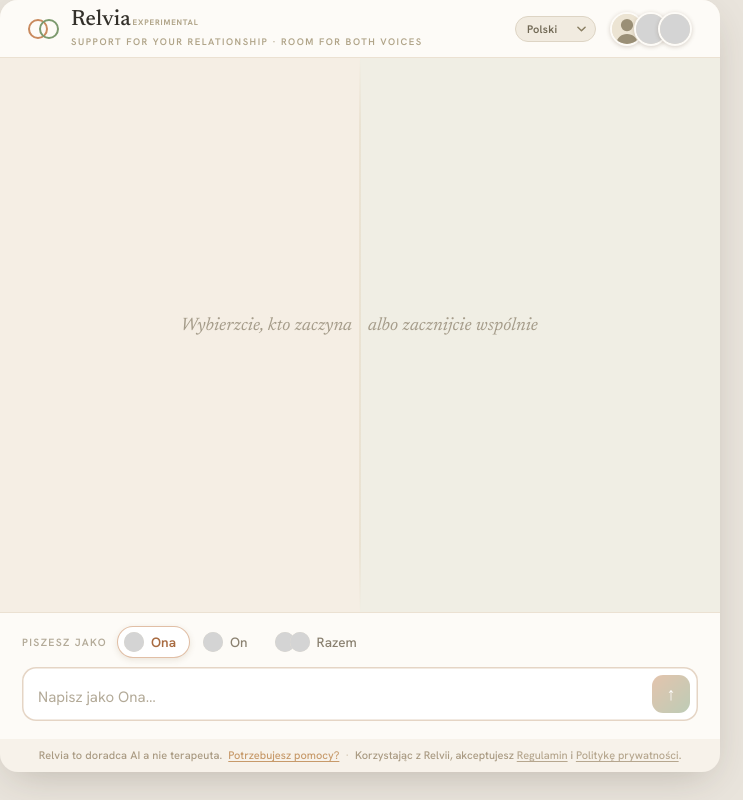
Test: przełącznik języka › zmienia język bez przeładowania, aktualizuje <html lang> i zapisuje wybór
Select "English" in the dropdown named "Język" at [556, 28], box top-left (515, 16), bottom-right (596, 42)
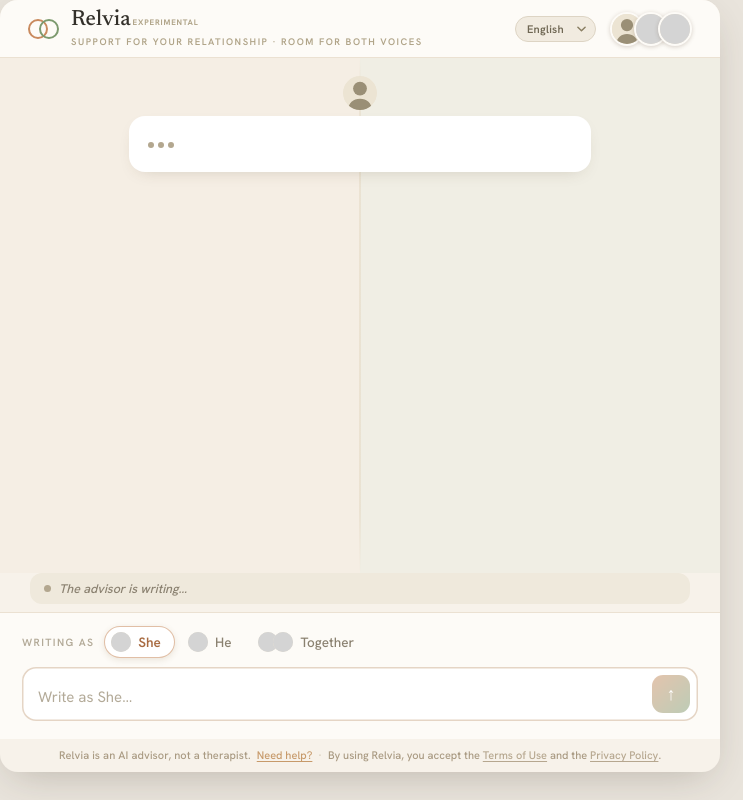
Expected: the text with class "author-select-label" reads "Writing as", top-left (22, 635), bottom-right (94, 649)
